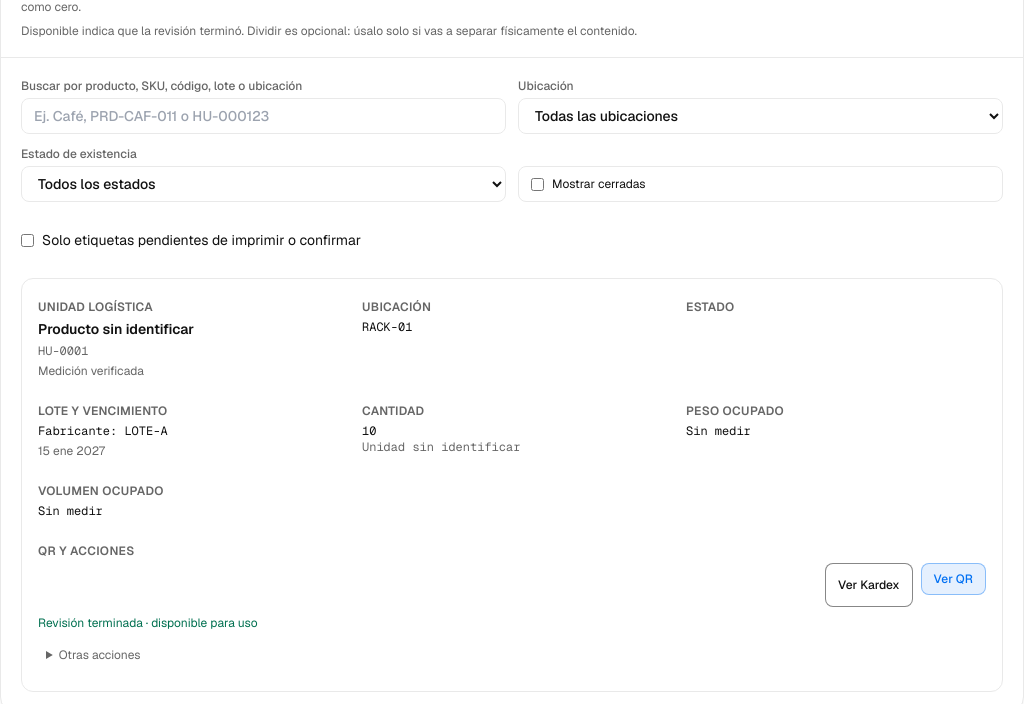
Test: HandlingUnitsPanel › prepara una fracción disponible atómicamente y advierte que ambas partes quedan en cuarentena
Expected: the text "HU-0001" is shown, [38,343,88,359]
Click the heading "Otras acciones" at [100, 655], box [59,647,140,663]
(page scrolled)
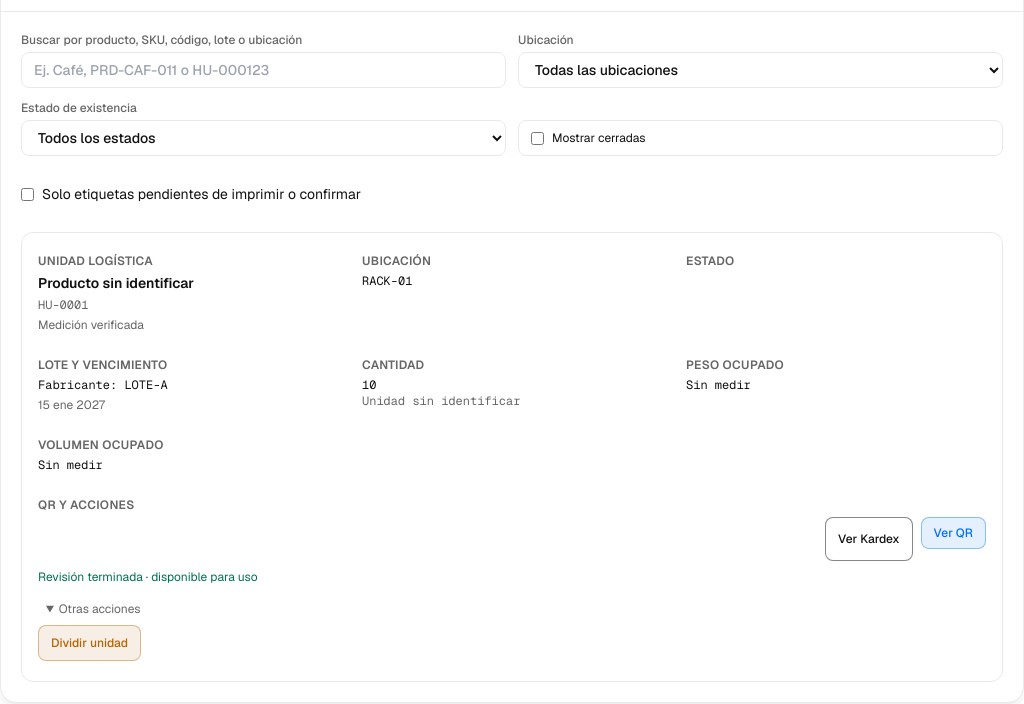
Click the button "Dividir unidad" at [90, 643], box [38,625,141,661]
(page scrolled)
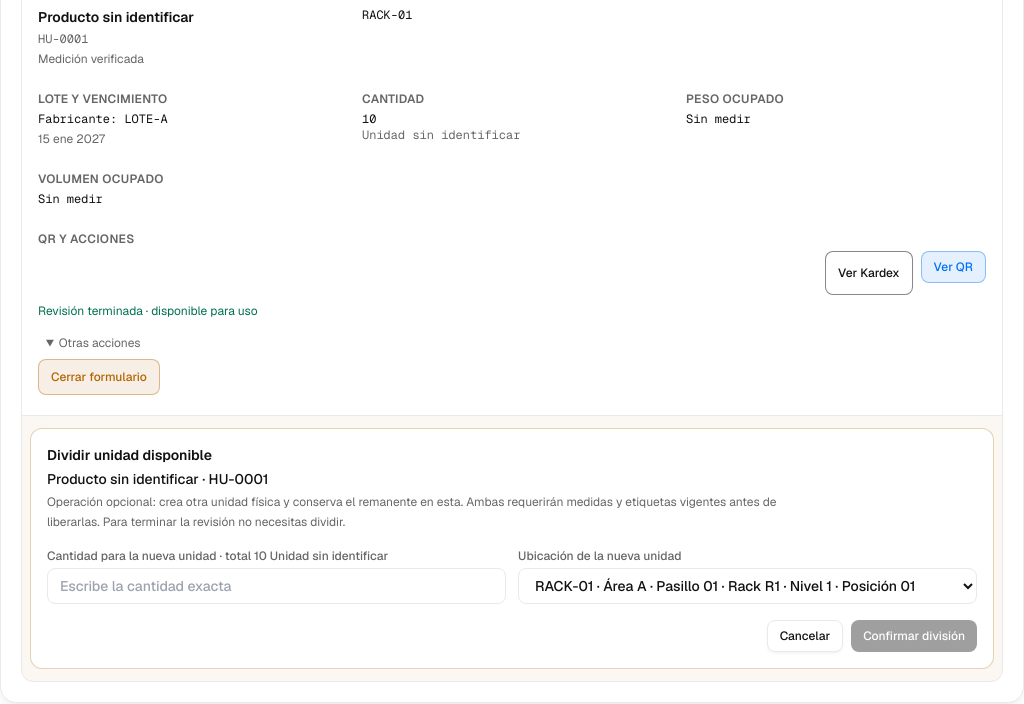
Result: the dropdown labelled "Ubicación de la nueva unidad" is enabled at [518,568,977,604]
Result: the number field labelled "Cantidad para la nueva unidad" is not empty
Type "4" into the number field labelled "Cantidad para la nueva unidad" at [276, 586], box [47,568,506,604]
(page scrolled)
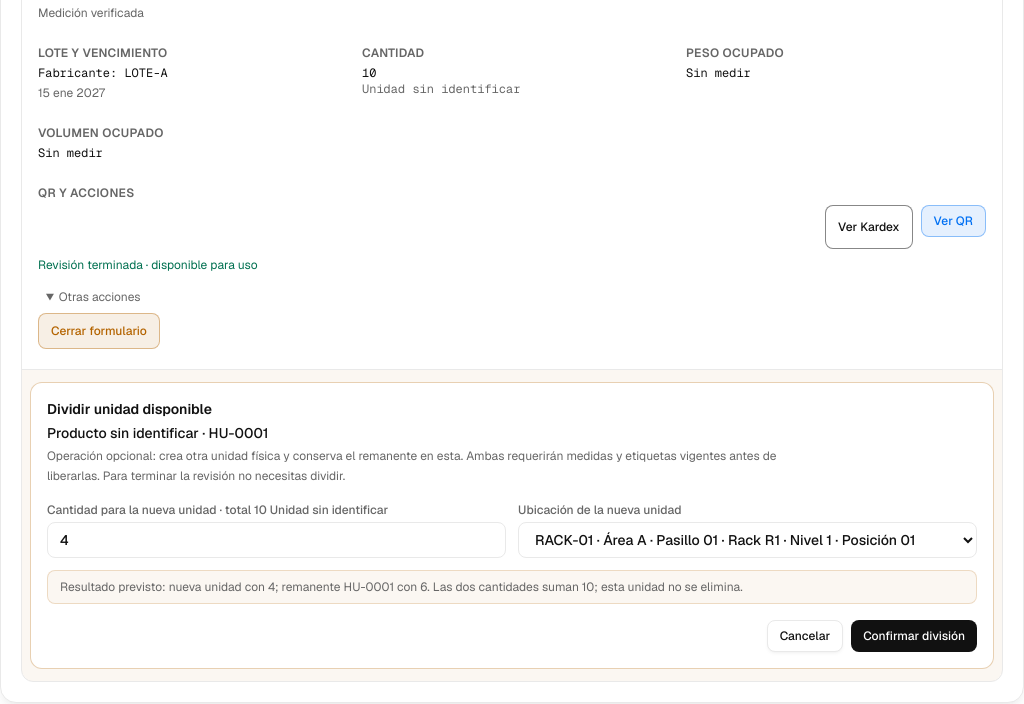
Result: the dropdown labelled "Ubicación de la nueva unidad" shows "RACK-01 · Área A · Pasillo 01 · Rack R1 · Nivel 1 · Posición 01" at [518,522,977,558]
Result: the form named "Dividir unidad HU-0001" shows "remanente HU-0001 con 6" at [60,579,743,595]
Submit the form named "Dividir unidad HU-0001", box [30,382,994,669]
(page scrolled)
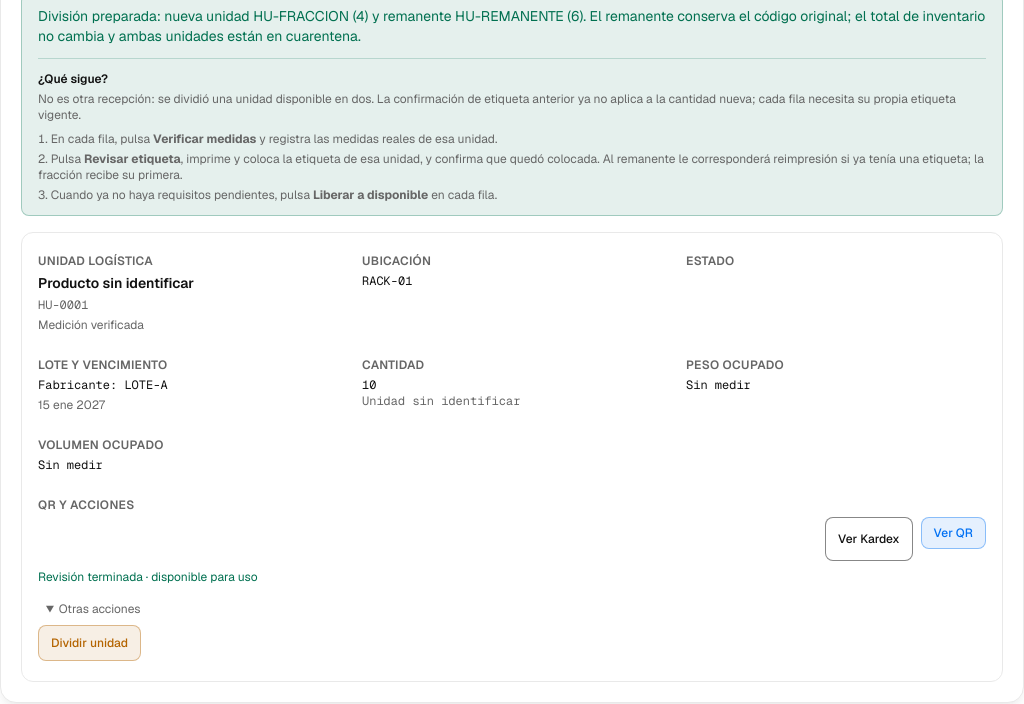
Result: the message shows "remanente HU-REMANENTE (6)" at [38,7,985,45]
Result: the message shows "El remanente conserva el código original" at [38,7,985,45]
Result: the message shows "el total de inventario no cambia" at [38,7,985,45]
